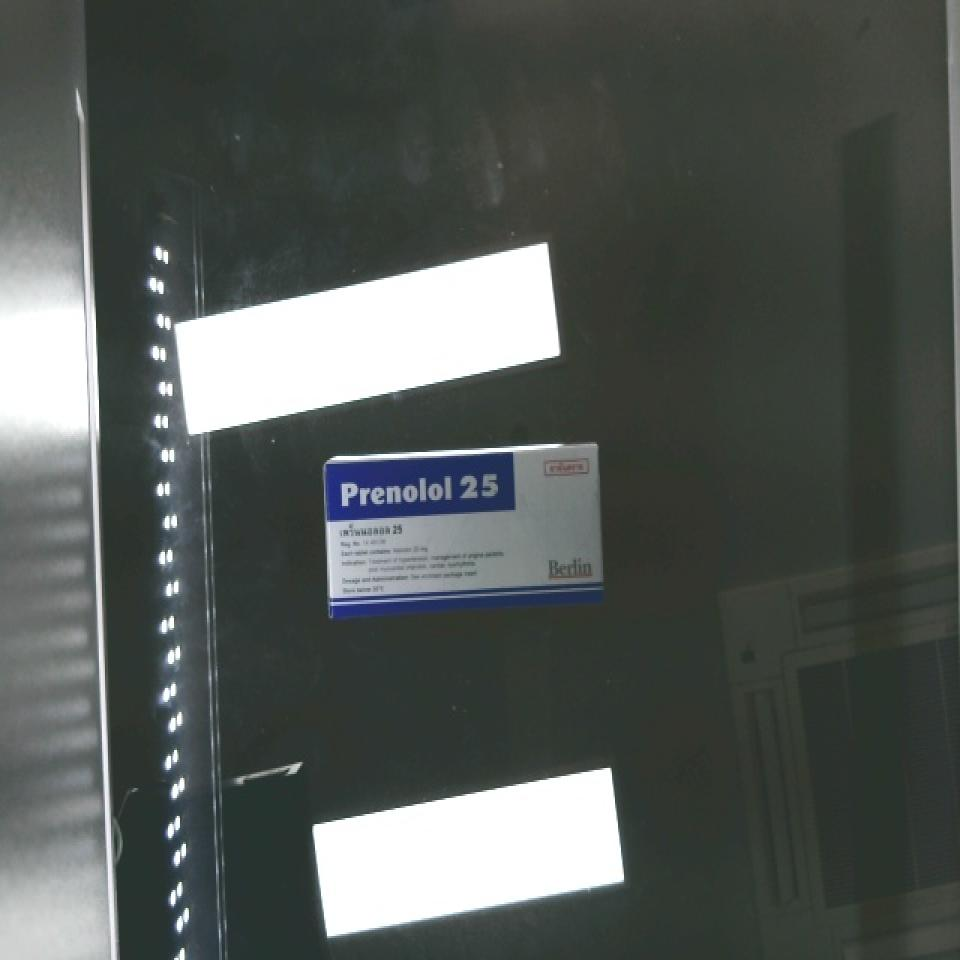medicine_box: (317, 433, 609, 614)
medicine_label_obb: (327, 453, 514, 523)
